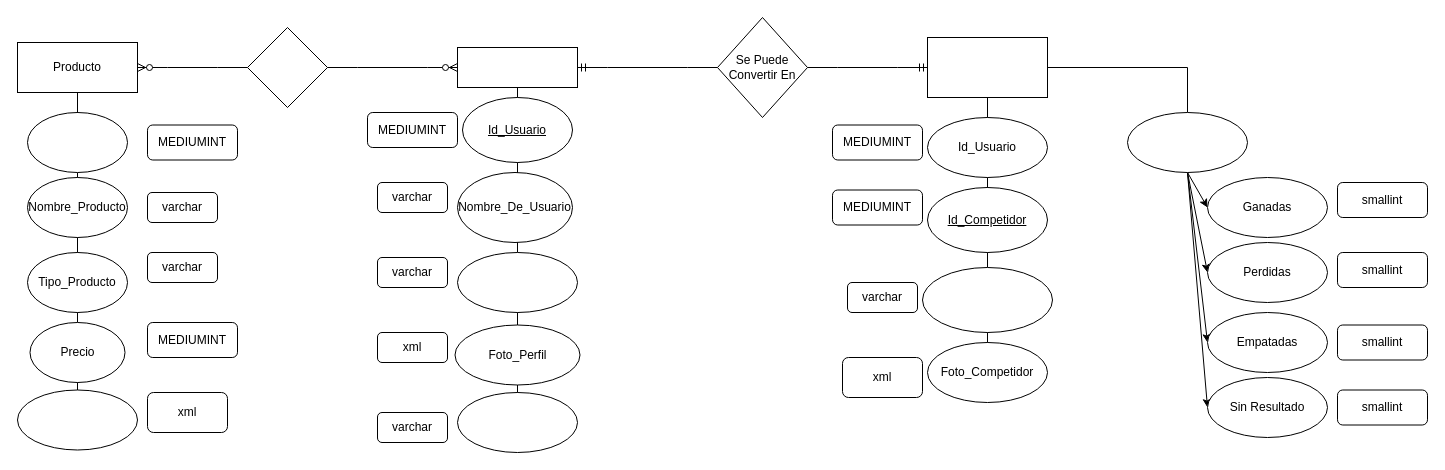
The diagram is 1445 pixels wide and 470 high, and some of its shapes have lost their labels. The box of each missing label's shape, as (x1, y1, x2, y2) in pixels:
Acceder: (246, 26, 328, 108)
Competidor: (926, 36, 1048, 98)
Descripción: (456, 252, 578, 312)
Descripción_Competidor: (922, 266, 1052, 332)
Foto_Producto: (16, 389, 138, 450)
Id_Producto: (26, 112, 128, 172)
Tipo_De_Usuario: (456, 392, 578, 452)
Total_Peleas: (1126, 112, 1248, 172)
Usuario: (456, 46, 578, 88)
